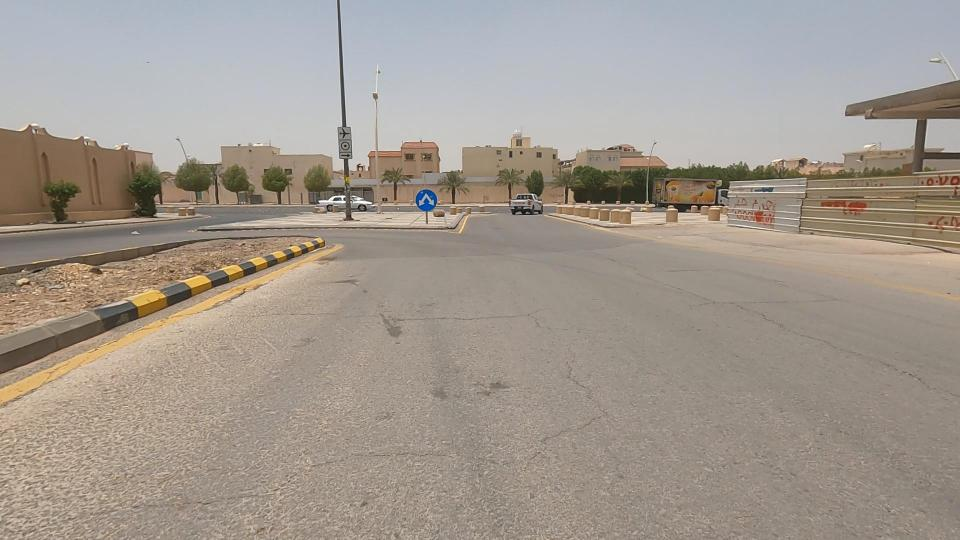GRAFFITI: (670, 157, 830, 269), (780, 164, 909, 253)
